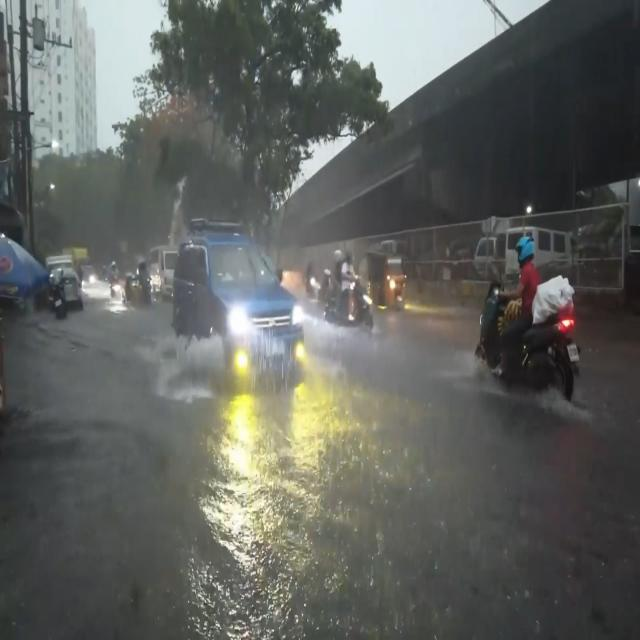half: (515, 235, 535, 268)
